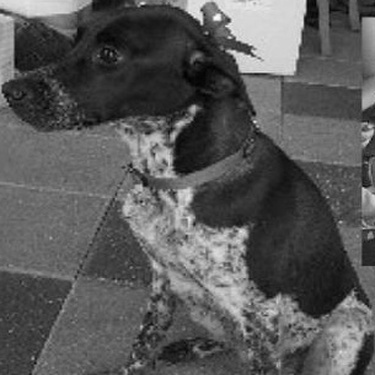dog: (3, 1, 372, 370)
